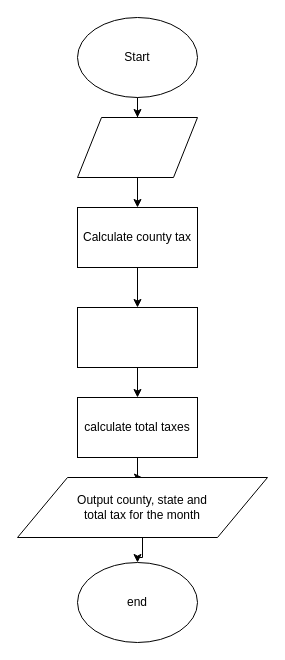
The diagram is 285 pixels wide and 660 high, and some of its shapes have lost their labels. The centre of each missing label's shape, as x and y in pixels:
"calculate state tax" belongs at (x=137, y=337).
"Input sails for the month" belongs at (x=137, y=147).
